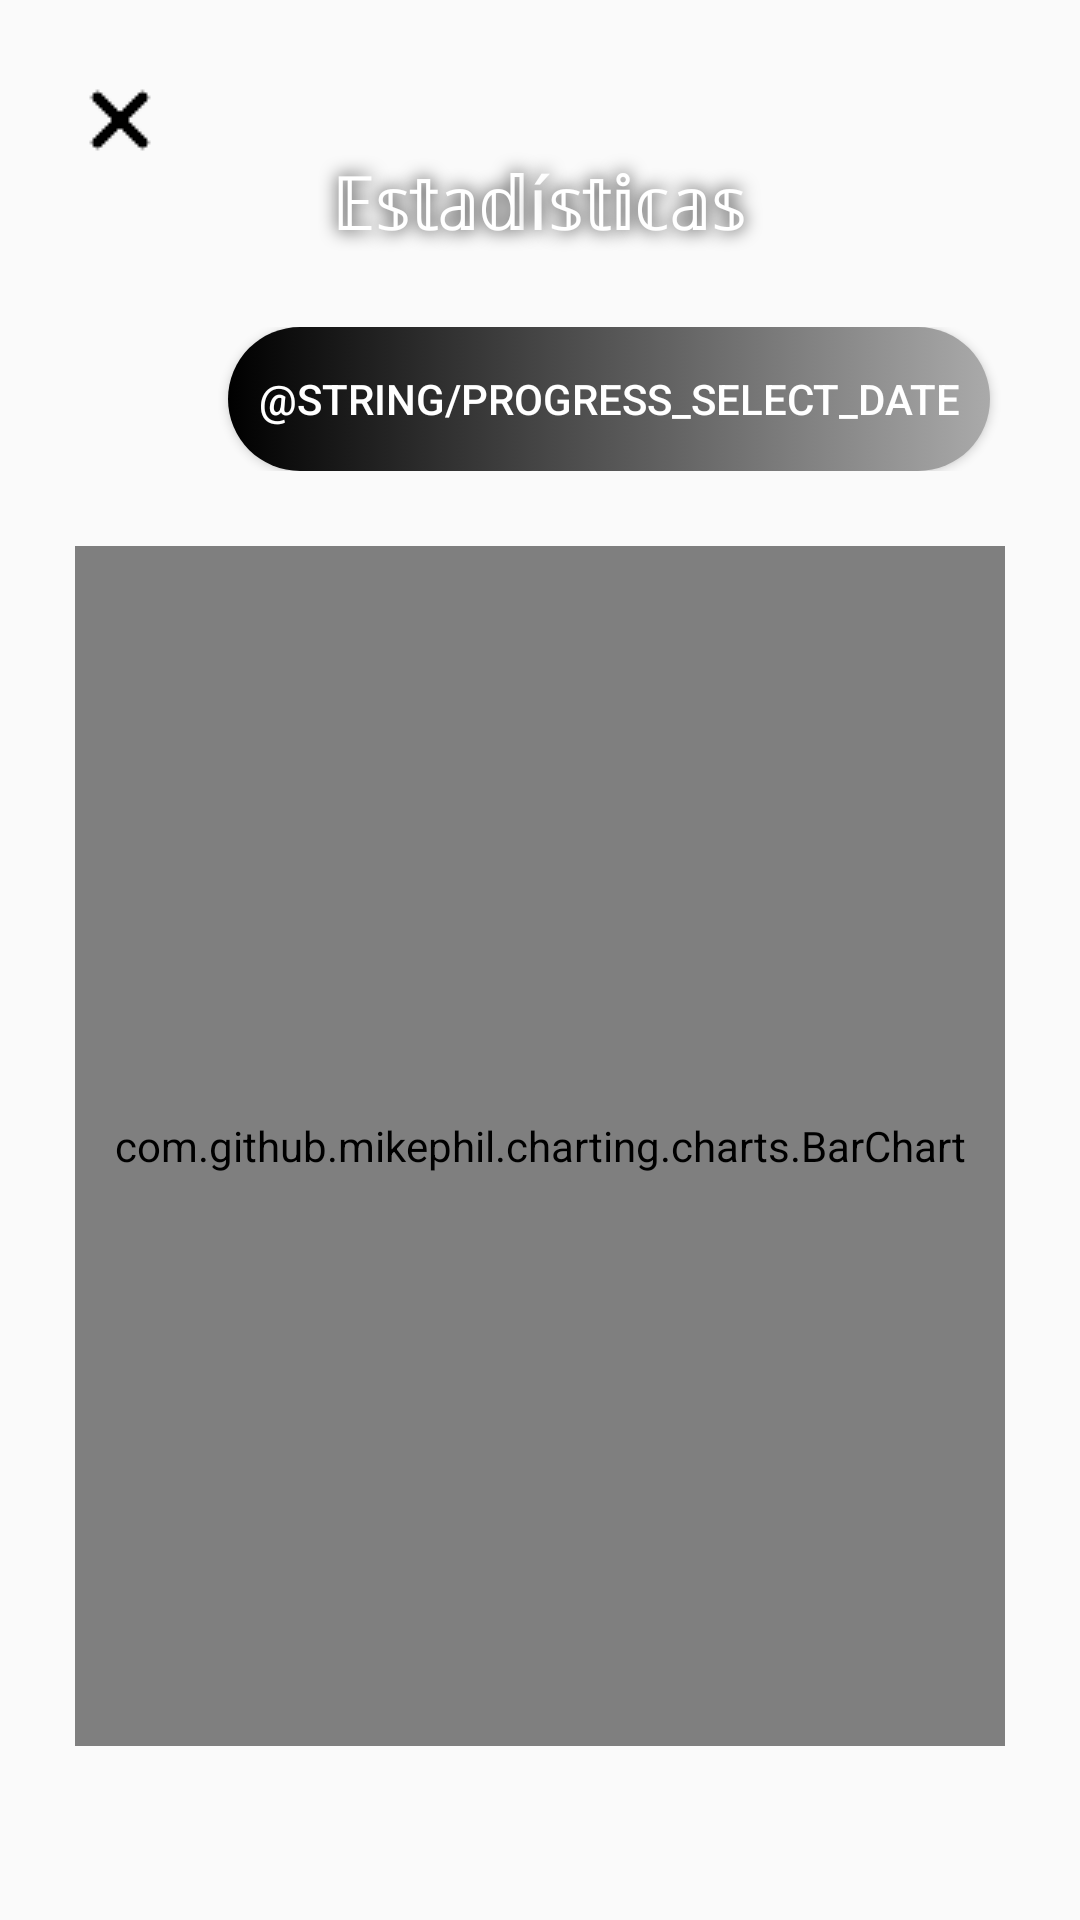

Point at icon controls on the screen. Image size 1080px×1920px, points as (x=x, y=y).
Return Button: (x=120, y=120)
